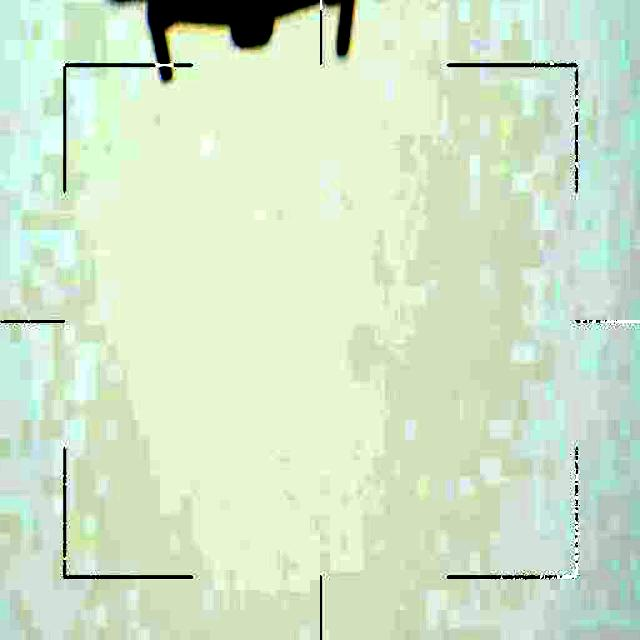bird: (99, 0, 408, 88)
